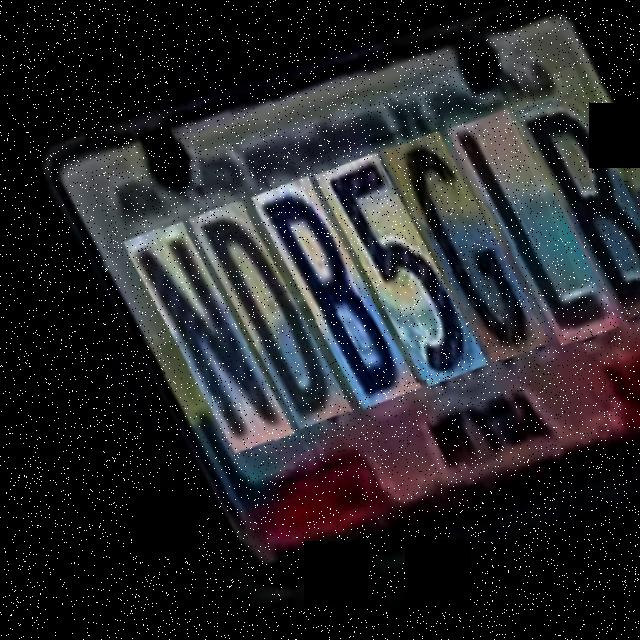5: (300, 135, 470, 402)
B: (235, 159, 404, 426), (496, 70, 640, 334)
D: (175, 185, 335, 446)
G: (365, 113, 531, 378)
L: (430, 90, 601, 361)
N: (110, 206, 278, 473)
